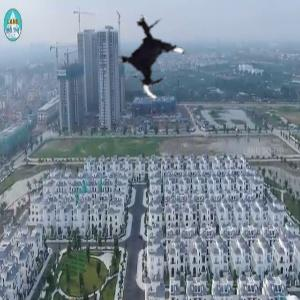drone: (109, 12, 200, 103)
